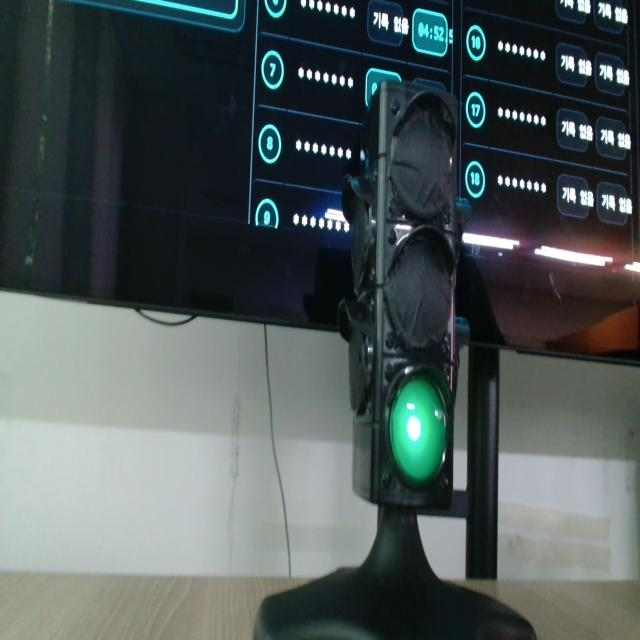green_light: (390, 377, 445, 484)
